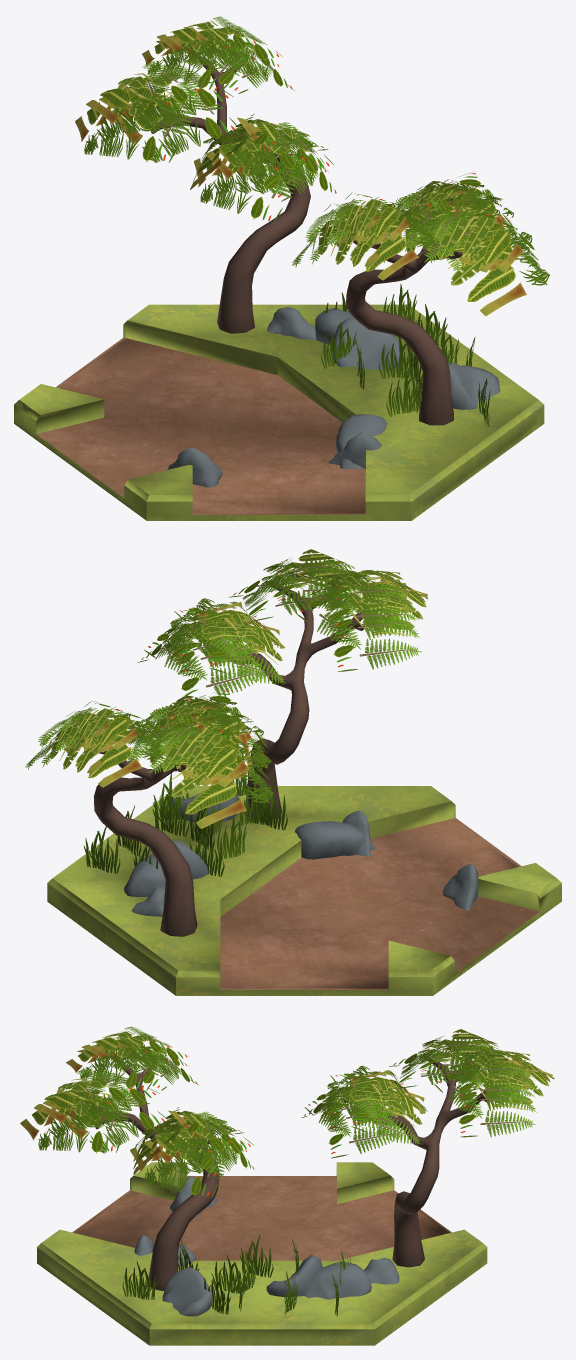
Rendered from HexTile5.fbx.
3 views of the same model, one above another, from view 1: azimuth 30°, elevation 25°; view 2: azimuth 150°, elevation 25°; view 3: azimuth 270°, elevation 25° (orthographic). The views are drawn at different scales.
Visible parts, largest first — view 1: Terrain_01.019, Tree1.001, Tree1.002, rock1.002, grass1.003; view 2: Terrain_01.019, Tree1.002, Tree1.001, rock1.002, grass1.003; view 3: Terrain_01.019, Tree1.002, Tree1.001, rock1.002, grass1.003.
Boxes of the visible parts, x1,y1,x2,y2 form: Terrain_01.019: (14, 304, 544, 520); Tree1.001: (75, 16, 336, 333); Tree1.002: (292, 172, 549, 425); rock1.002: (167, 307, 500, 487); grass1.003: (321, 284, 490, 426); Terrain_01.019: (47, 786, 561, 995); Tree1.002: (138, 549, 427, 820); Tree1.001: (25, 690, 273, 936); rock1.002: (124, 791, 478, 916); grass1.003: (83, 752, 287, 876); Terrain_01.019: (37, 1162, 487, 1345); Tree1.002: (20, 1026, 254, 1290); Tree1.001: (301, 1029, 554, 1267); rock1.002: (134, 1176, 399, 1316); grass1.003: (122, 1234, 351, 1316).
Size of the model in its own units: 1765 by 1246 by 2433.
